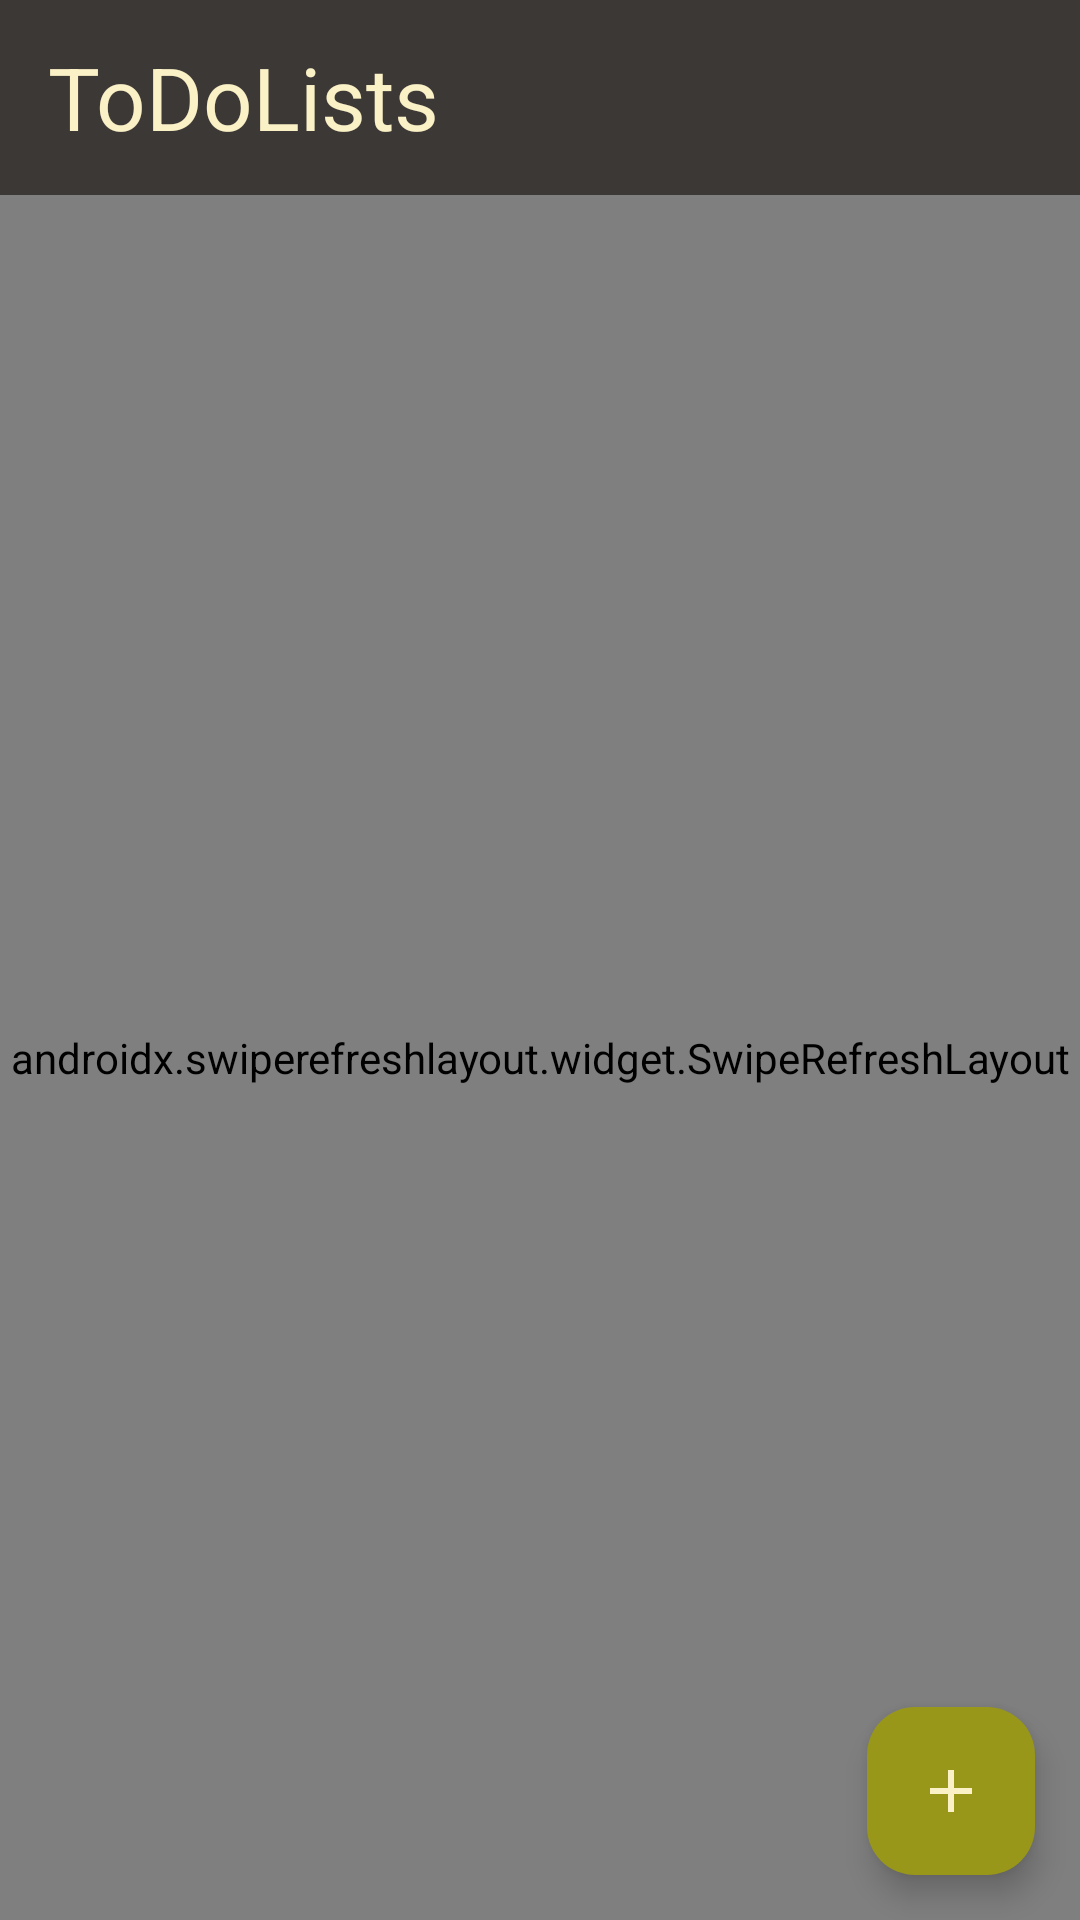

Screen size 1080px×1920px. Icon name, then its box in pixels as (x1, y1, x2, y2):
add: (867, 1707, 1035, 1875)
